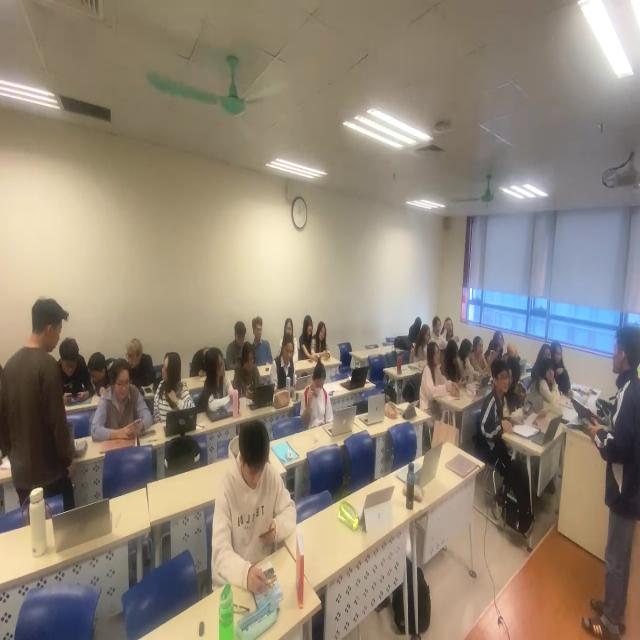raise_head: (477, 354, 513, 459), (417, 338, 457, 418), (203, 349, 235, 421), (528, 355, 562, 410), (251, 314, 276, 369), (550, 339, 572, 399), (280, 315, 301, 360), (300, 311, 317, 362), (473, 336, 492, 375), (532, 342, 552, 379), (317, 316, 330, 364), (444, 316, 459, 349), (494, 327, 508, 361), (431, 315, 444, 346)
stand: (582, 304, 640, 640), (2, 292, 80, 513)
using_computer: (271, 334, 301, 398), (408, 315, 423, 344)
using_phone: (208, 414, 302, 603), (90, 355, 152, 449), (302, 354, 336, 433), (55, 337, 94, 405), (232, 339, 264, 405), (222, 319, 249, 375), (457, 336, 479, 383), (411, 325, 433, 364), (487, 340, 501, 367)
